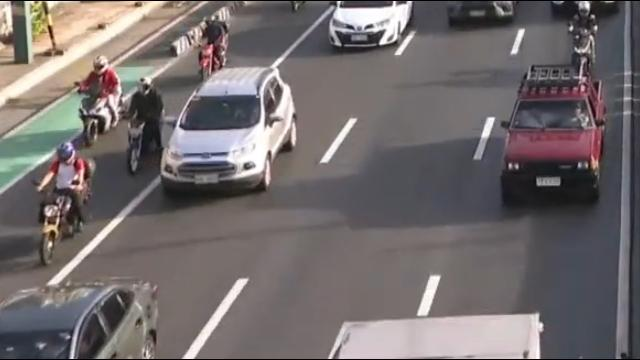car: (159, 67, 298, 196), (0, 282, 158, 360), (329, 0, 412, 48), (445, 0, 519, 26)
motorcycle: (30, 143, 95, 265), (119, 75, 165, 174), (72, 55, 120, 145), (563, 4, 600, 84), (191, 11, 228, 81)
pickup-truck: (498, 75, 605, 208)
